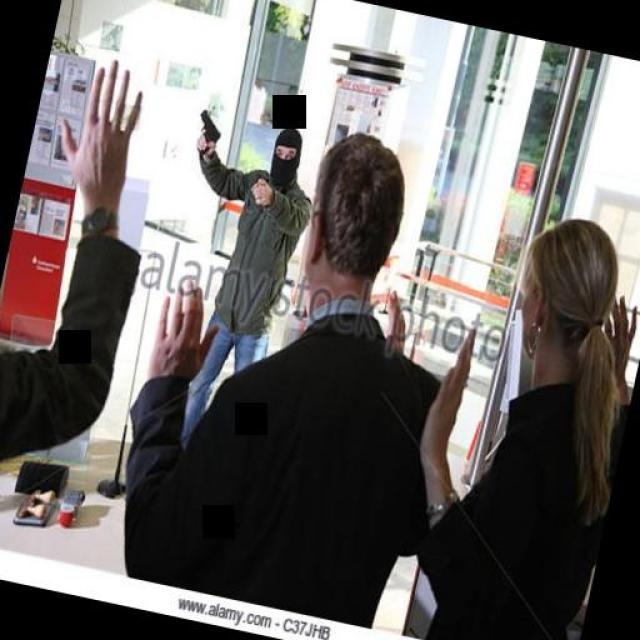gun: (190, 106, 225, 162)
